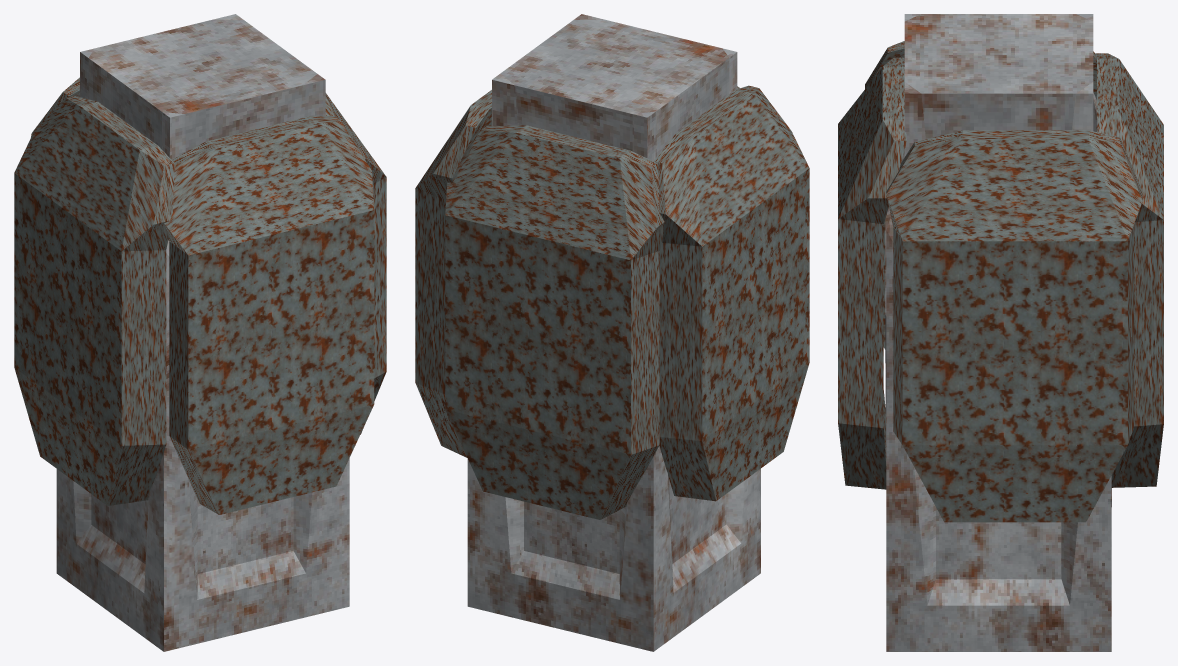
The model's file is baseConsoleWindows.glb.
3 renders of one model, left to right at view 1: azimuth 30°, elevation 25°; view 2: azimuth 150°, elevation 25°; view 3: azimuth 270°, elevation 25°, orthographic. The views are drawn at different scales.
Parts seen in each view (by area): view 1: Cube.003, Cube, Cube.004, Cube.006; view 2: Cube.005, Cube, Cube.004, Cube.006; view 3: Cube.006, Cube, Cube.003, Cube.005, Cube.004.
Part boxes in pixels (x1,y1,x2,y2): Cube.003: (164,116,374,514); Cube: (56,14,349,651); Cube.004: (14,96,174,505); Cube.006: (325,93,386,434); Cube.005: (445,125,664,519); Cube: (467,14,760,651); Cube.004: (653,85,809,501); Cube.006: (415,90,491,457); Cube.006: (886,130,1142,522); Cube: (885,14,1111,651); Cube.003: (838,57,906,489); Cube.005: (1095,53,1163,487); Cube.004: (865,41,1096,349).
Bounding box in the file's own units: 2.97 × 5.39 × 2.89.
3 materials, 3 textured.
